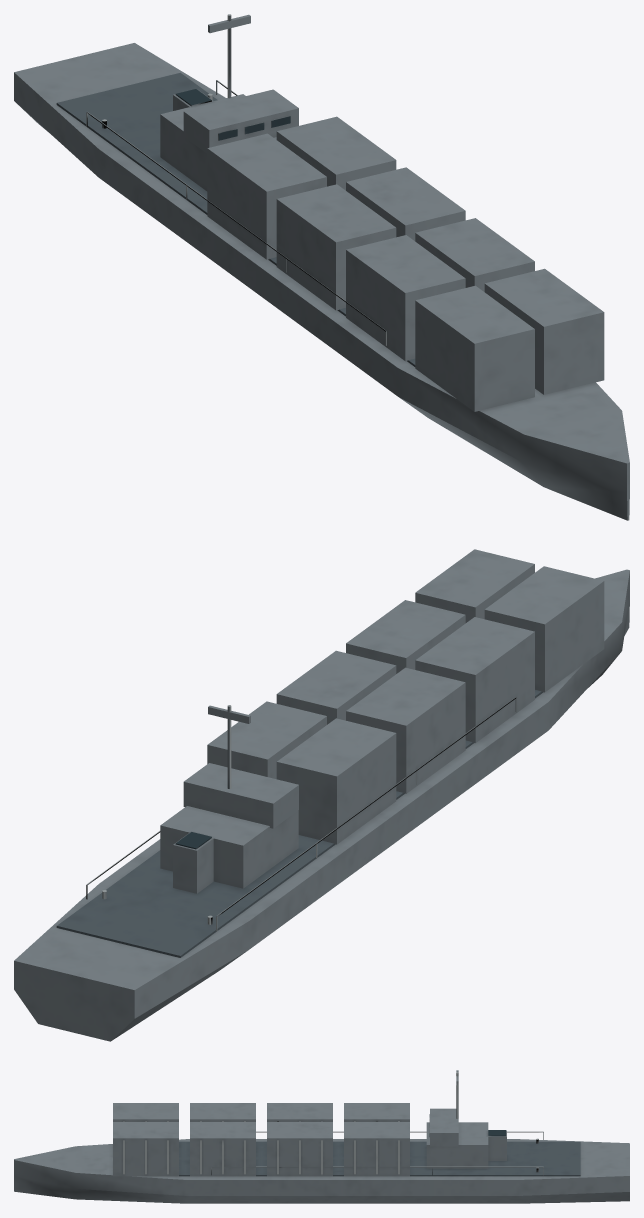
File: naval-container-ship.fbx
3 renders of one model, top to bottom at view 1: azimuth 30°, elevation 25°; view 2: azimuth 150°, elevation 25°; view 3: azimuth 270°, elevation 25°, orthographic. The views are drawn at different scales.
Parts seen in each view (by area): view 1: naval-container-ship; view 2: naval-container-ship; view 3: naval-container-ship.
Boxes of the visible parts, bbox=[...] form: naval-container-ship: bbox=[14, 14, 629, 520]; naval-container-ship: bbox=[14, 549, 629, 1041]; naval-container-ship: bbox=[14, 1070, 629, 1203].
Bounding box in the file's own units: 44 × 59.5 × 280.
Materials: 1 (1 with a texture image).
